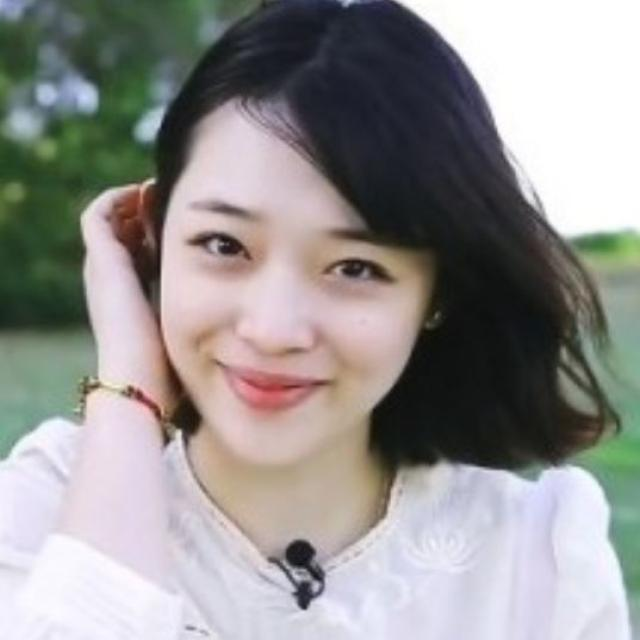face: (151, 40, 452, 483)
